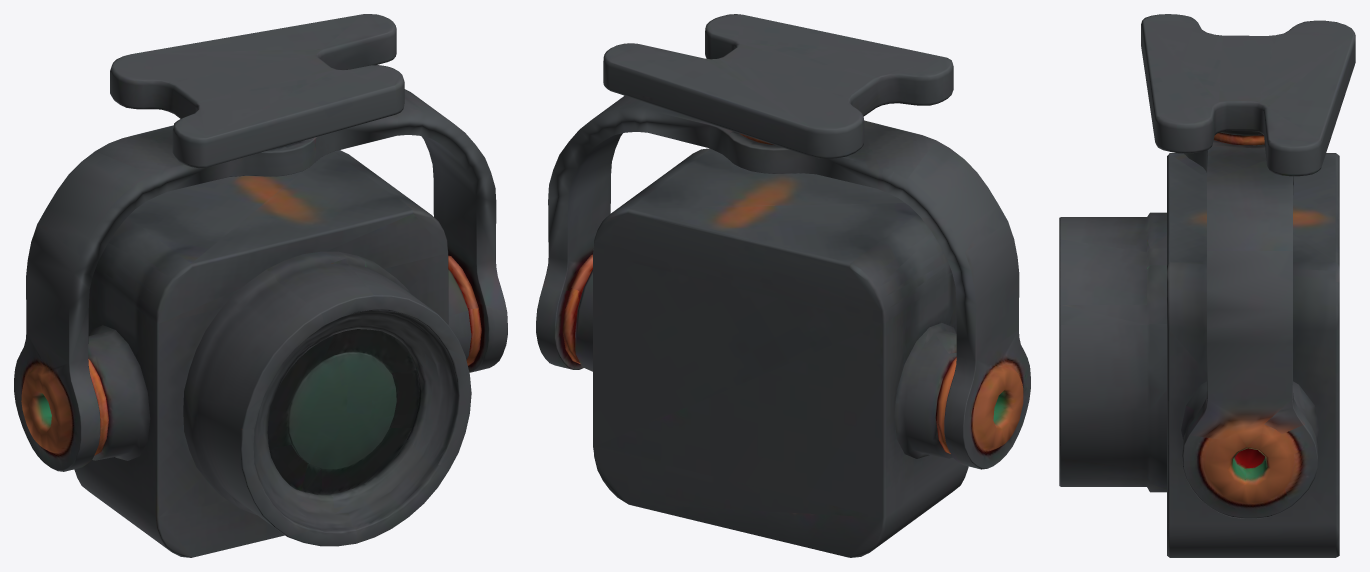
Rendered from drone-pod.glb.
3 renders of one model, left to right at view 1: azimuth 30°, elevation 25°; view 2: azimuth 150°, elevation 25°; view 3: azimuth 270°, elevation 25°, orthographic.
Visible parts, largest first — view 1: Camera pod; view 2: Camera pod; view 3: Camera pod.
Part boxes in pixels (left/top/right/bottom): Camera pod: left=14, top=14, right=507, bottom=557; Camera pod: left=536, top=14, right=1030, bottom=557; Camera pod: left=1059, top=14, right=1355, bottom=557.
Size of the model in its own units: 0.998 by 0.9277 by 0.5801.
Materials: 1 (1 with a texture image).
